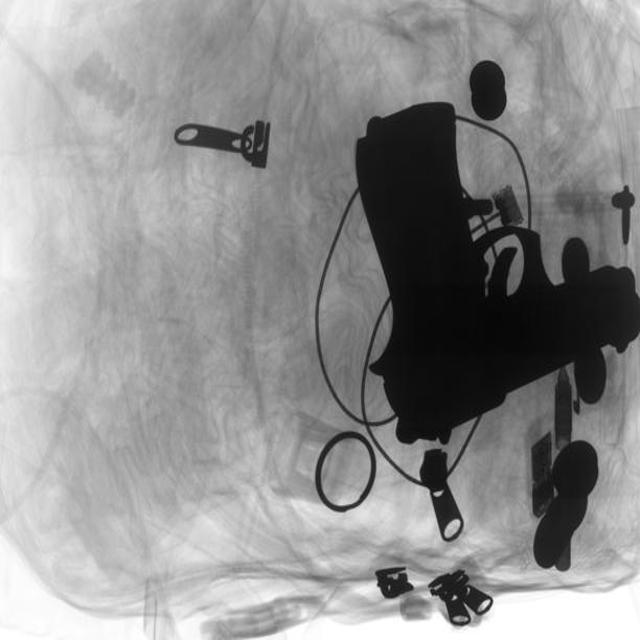gun: (344, 94, 640, 442)
